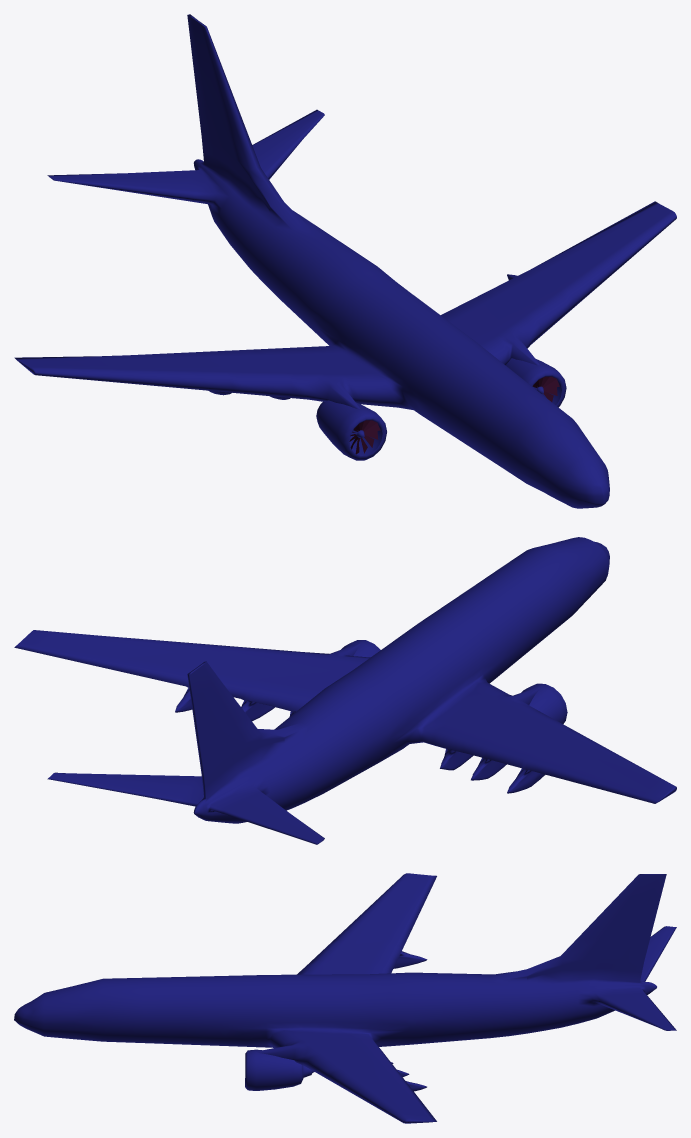
The picture shows the model from 3 angles, top to bottom: view 1: azimuth 30°, elevation 25°; view 2: azimuth 150°, elevation 25°; view 3: azimuth 270°, elevation 25°; orthographic projection. The views are drawn at different scales.
Visible parts, largest first — view 1: pCube3; view 2: pCube3; view 3: pCube3.
Part boxes in pixels (x1,y1,x2,y2): pCube3: (14, 14, 676, 508); pCube3: (14, 537, 676, 844); pCube3: (14, 873, 676, 1123).
Bounding box in the file's own units: 3.58 × 1.23 × 4.08.
